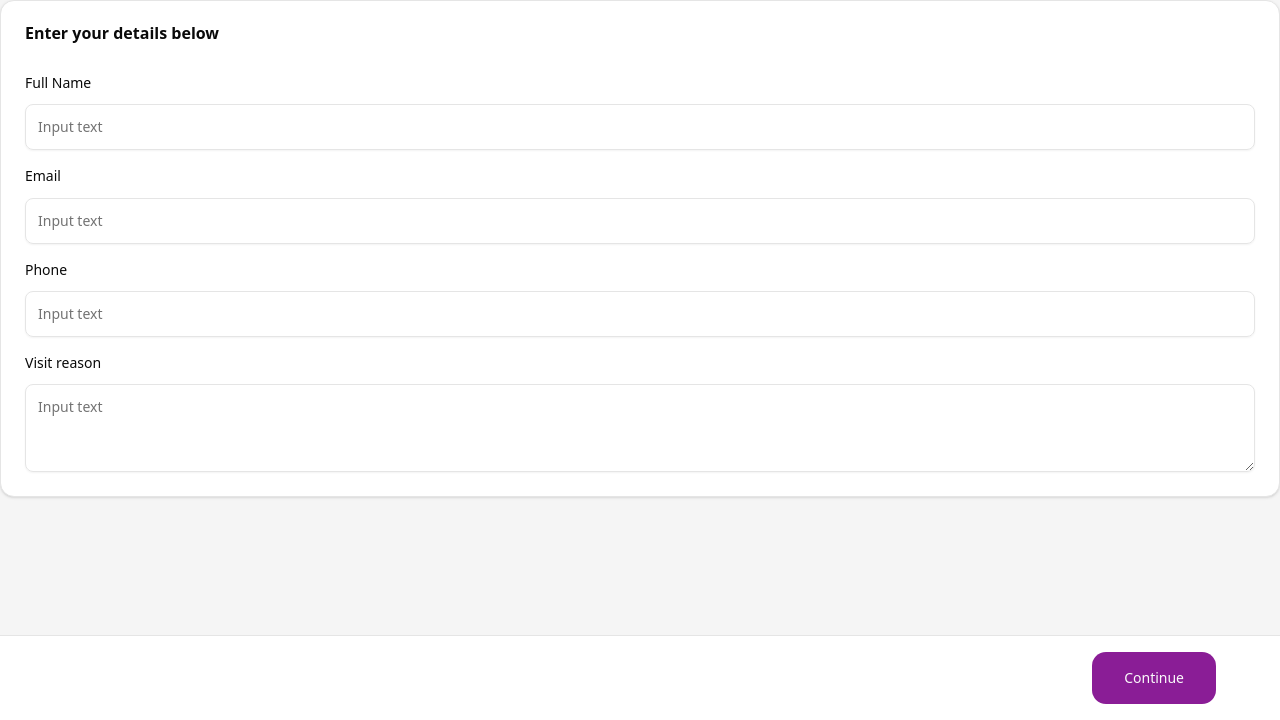
Test: UserDetailsForm › shows required errors on empty submit
Click the button "Continue" at (1154, 678), box [1092,652,1216,704]
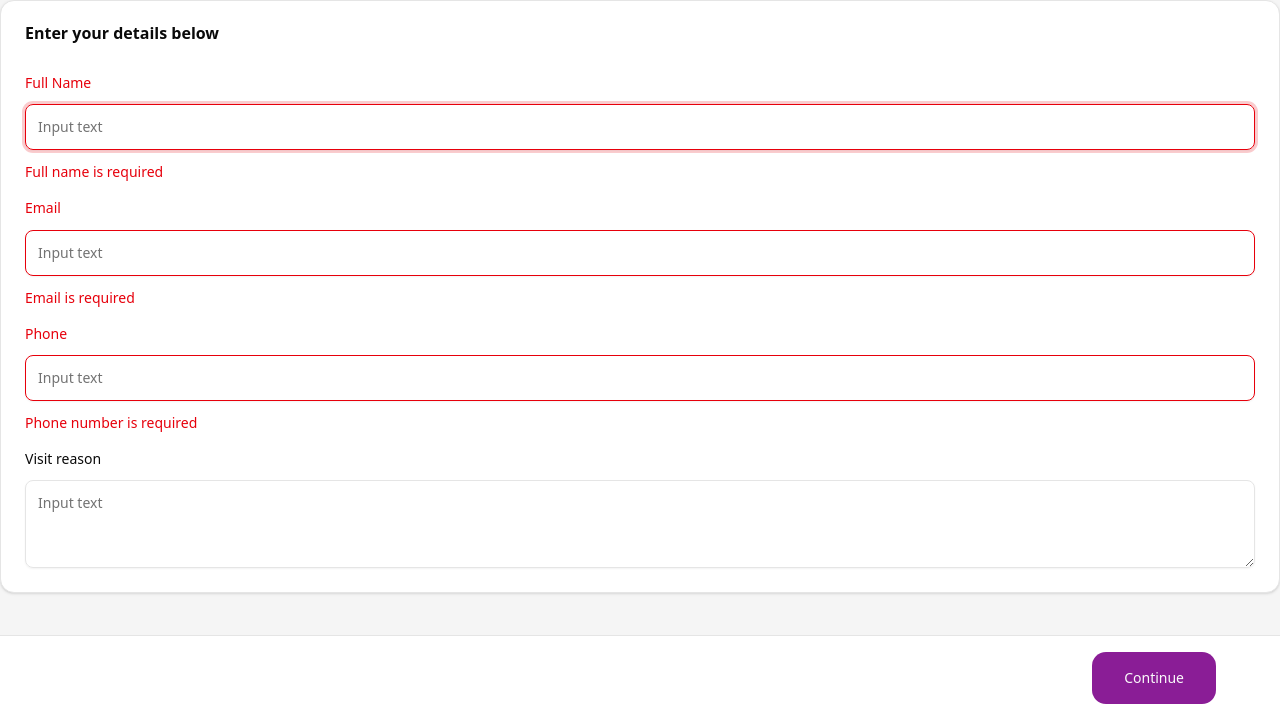
Result: the text "Full name is required" is shown at [25,162,163,181]
Result: the text "Email is required" is shown at [25,288,135,306]
Result: the text "Phone number is required" is shown at [25,413,197,432]
